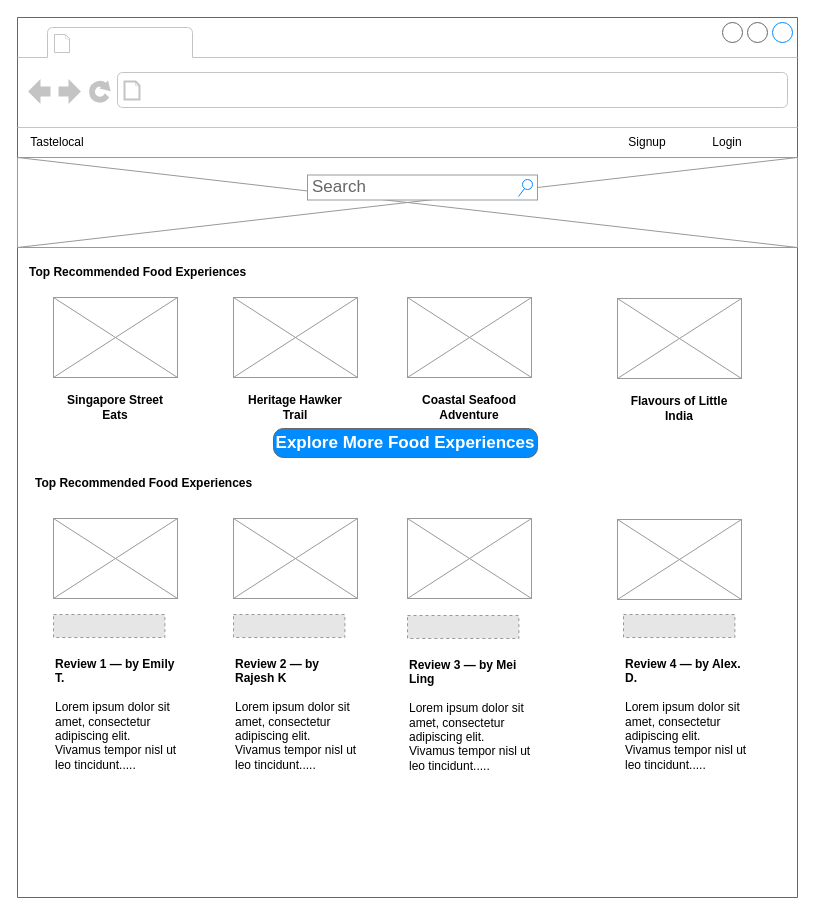
Image size: 815x915. Some labels were removed from this diagram. Grey dashed boxes stand in for pictures. The shapes that lost their labels are listed below. From the top down, each one's box as (x1, y1, x2, y2) in pixels, then its label:
(76, 28, 188, 56): Page 1
(146, 76, 398, 104): https://www.tastelocal.com
